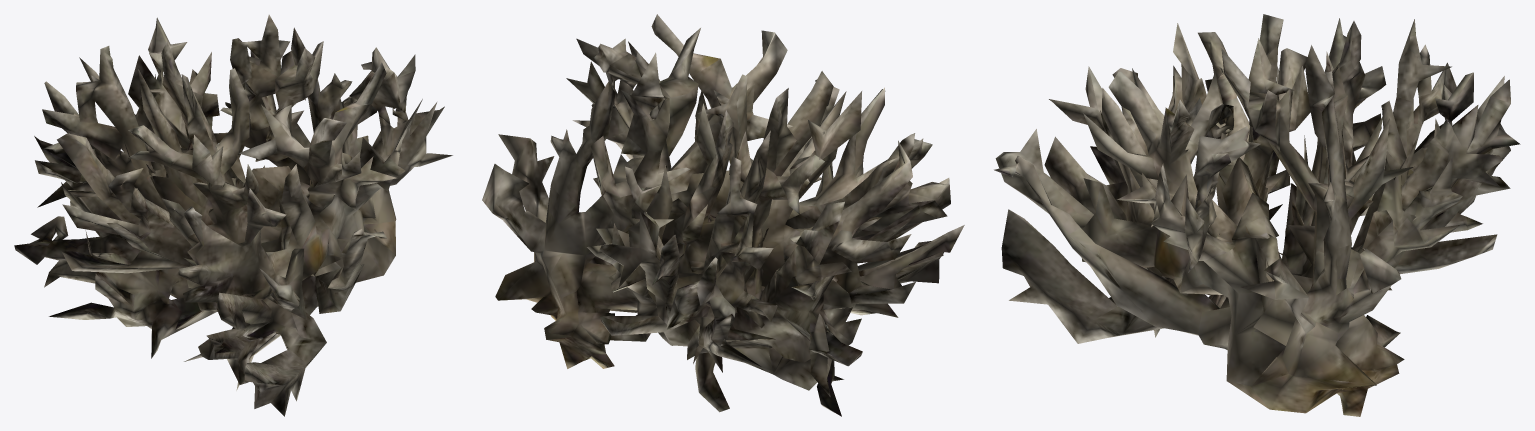
The model's file is branching.glb.
3 renders of one model, left to right at view 1: azimuth 30°, elevation 25°; view 2: azimuth 150°, elevation 25°; view 3: azimuth 270°, elevation 25°, orthographic. The views are drawn at different scales.
Size of the model in its own units: 0.1861 by 0.1406 by 0.1919.
Materials: 1 (1 with a texture image).
